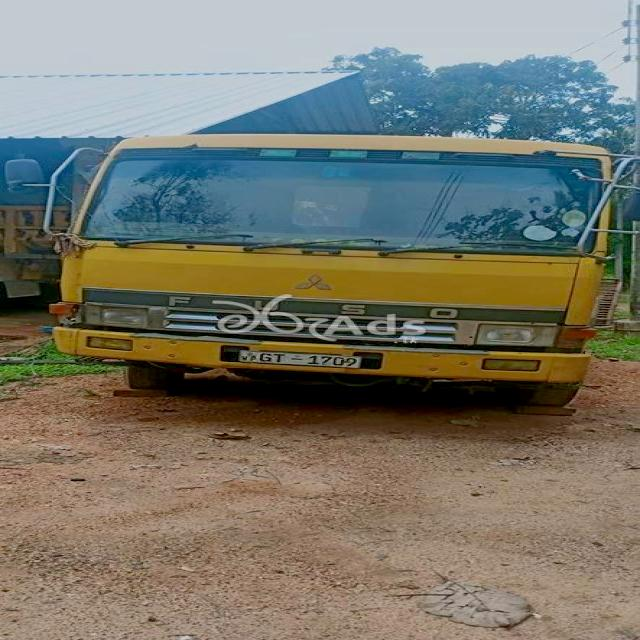truck: (47, 142, 624, 399)
